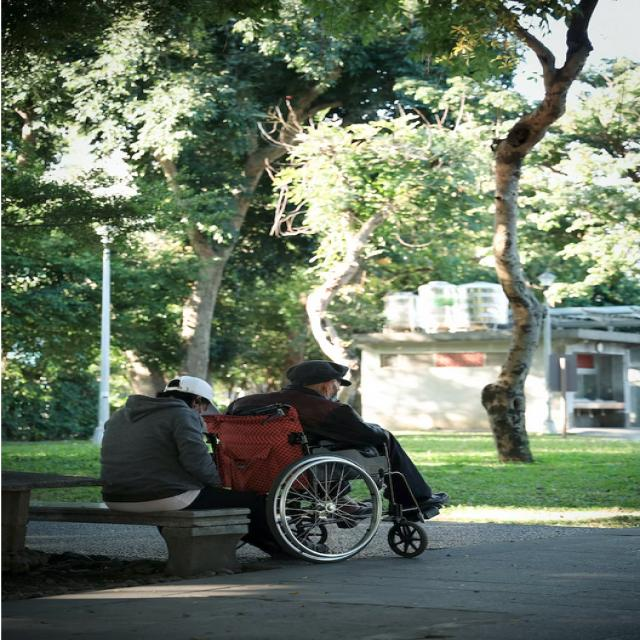wheelchairs: (196, 406, 444, 562)
